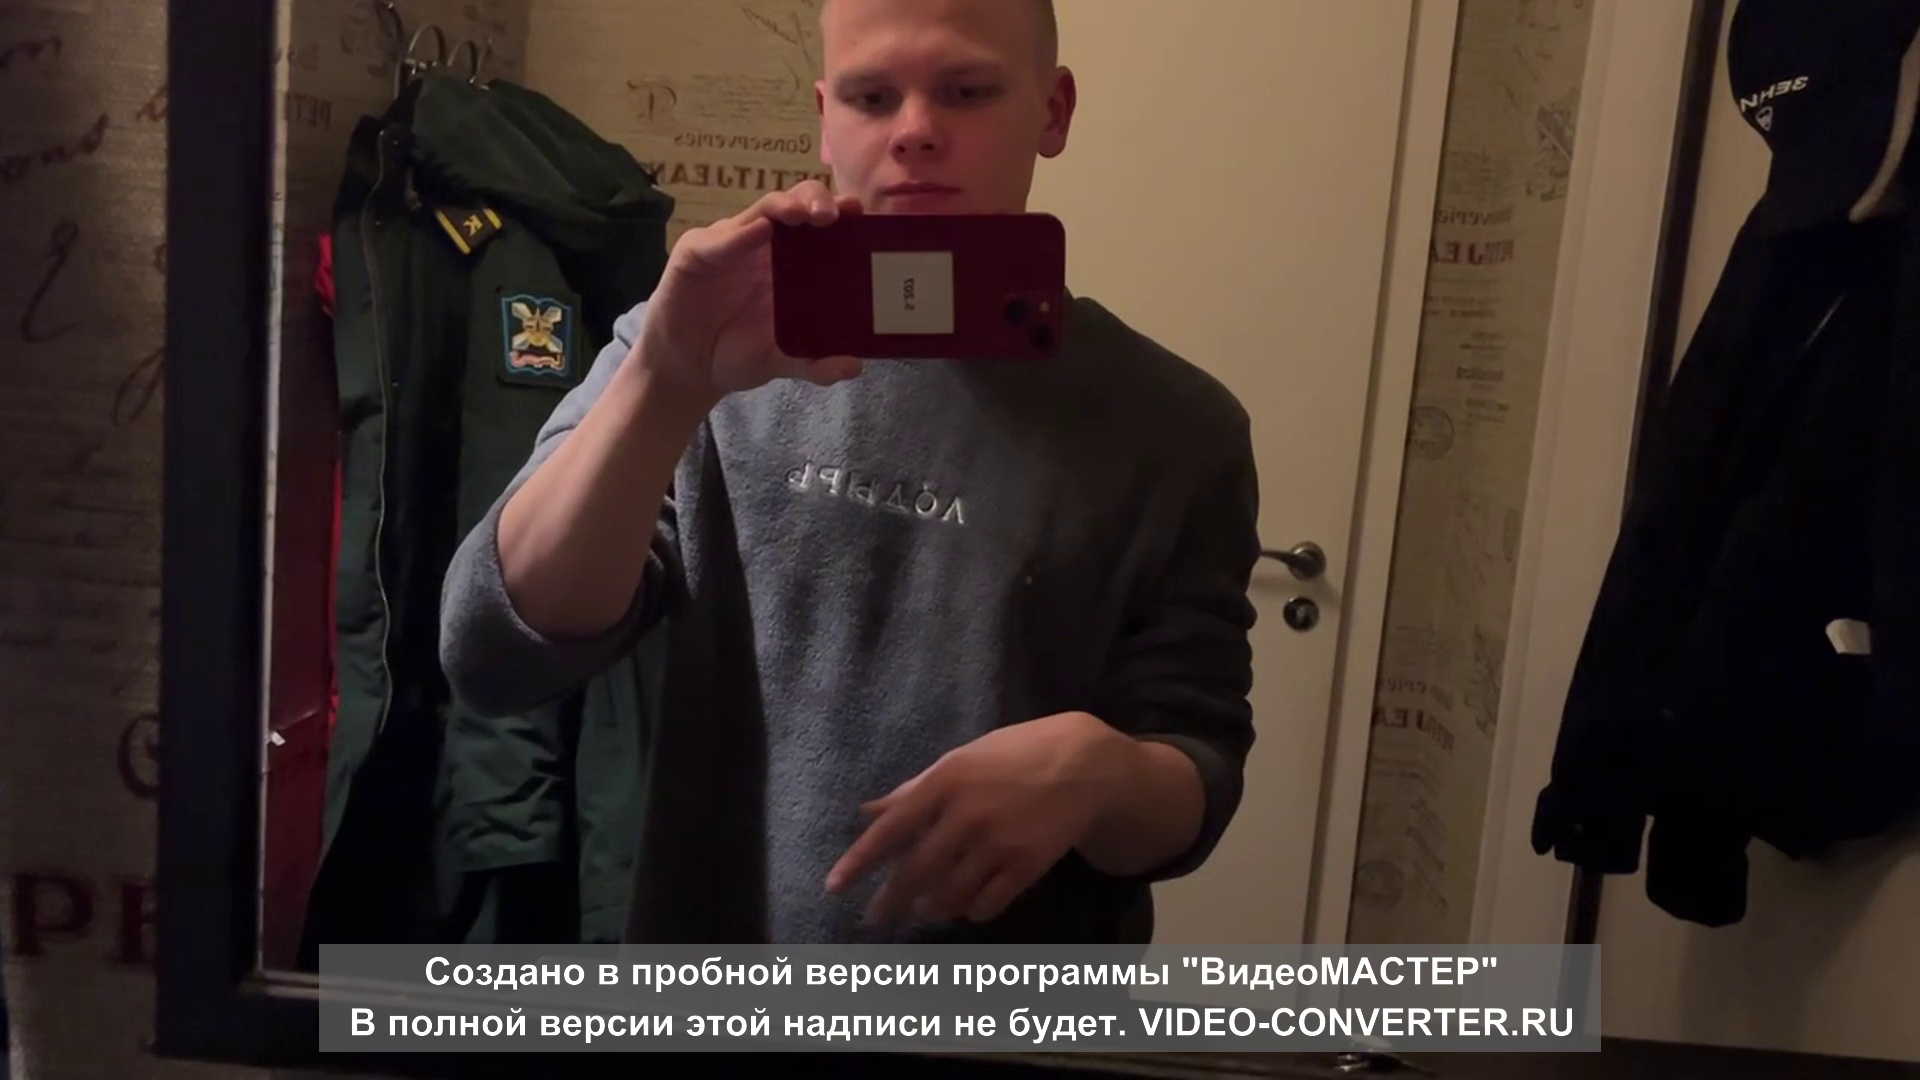Кисть: (820, 708, 1089, 935)
